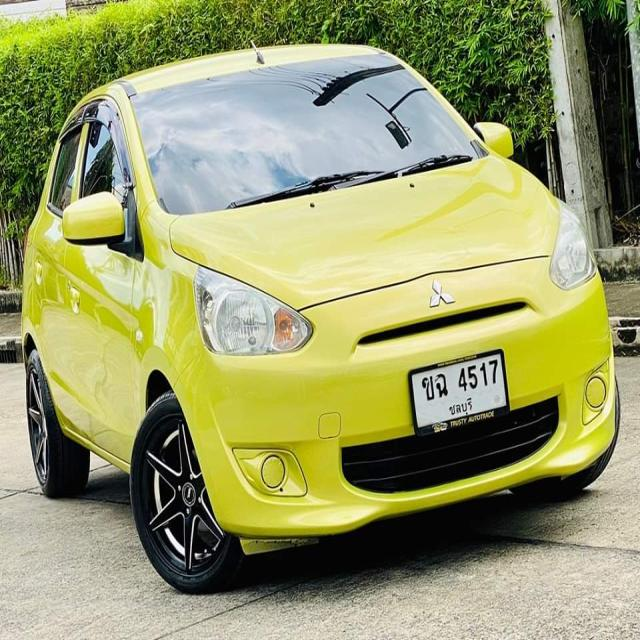license_plate: (406, 346, 510, 438)
